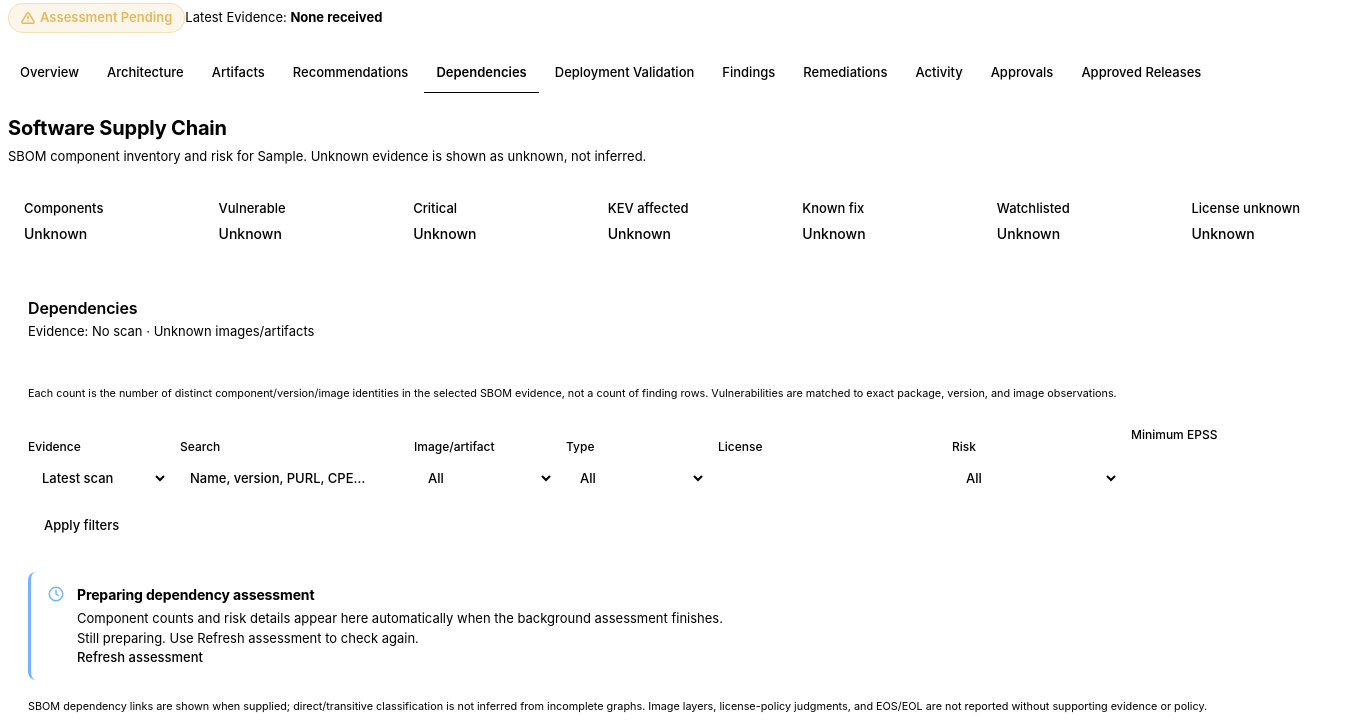
Scenario: Refresh assessment after polling gave up refreshes in place and restarts the bounded poll
The image size is (1366, 727).
(page scrolled)
Check: the text "Still preparing. Use Refresh assessment to check again." is shown, box [77, 630, 419, 646]
Click the button "Refresh assessment" at (140, 658), box [77, 648, 203, 668]
Wait 3000 ms
(page scrolled)
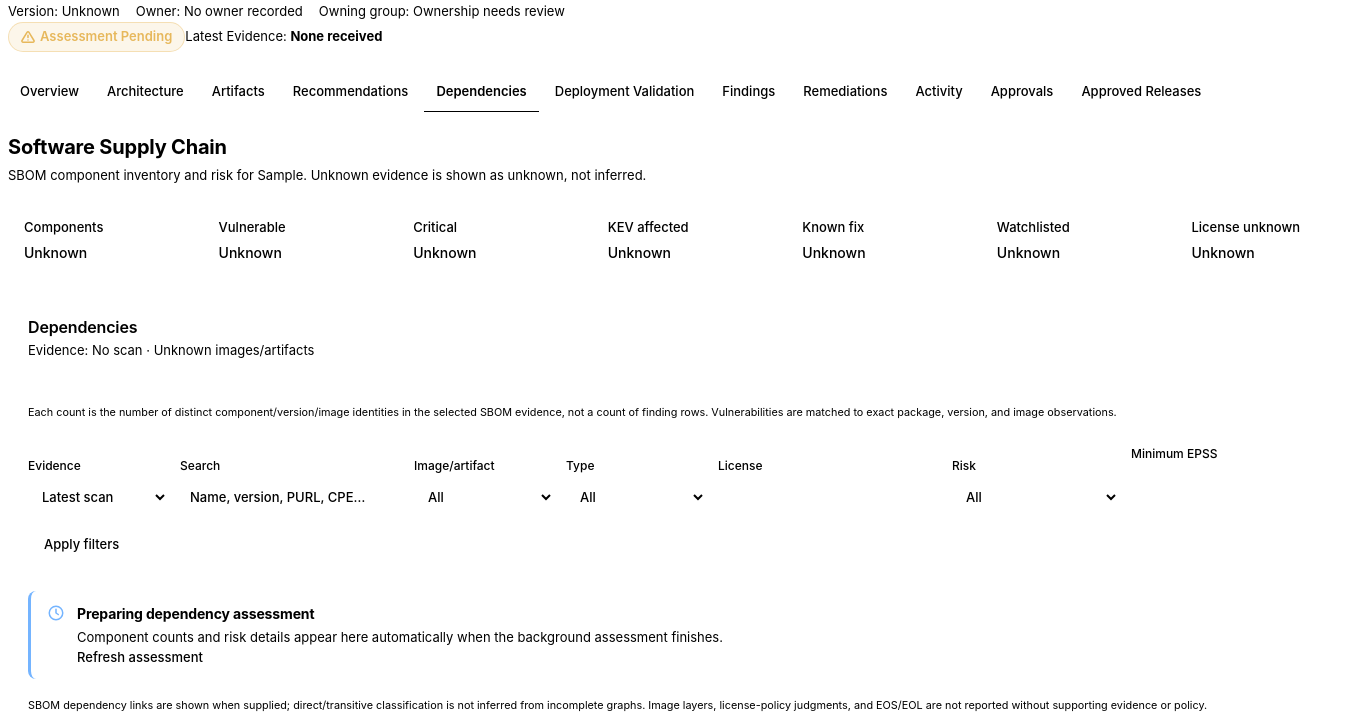
Check: the text "Still preparing" is gone
